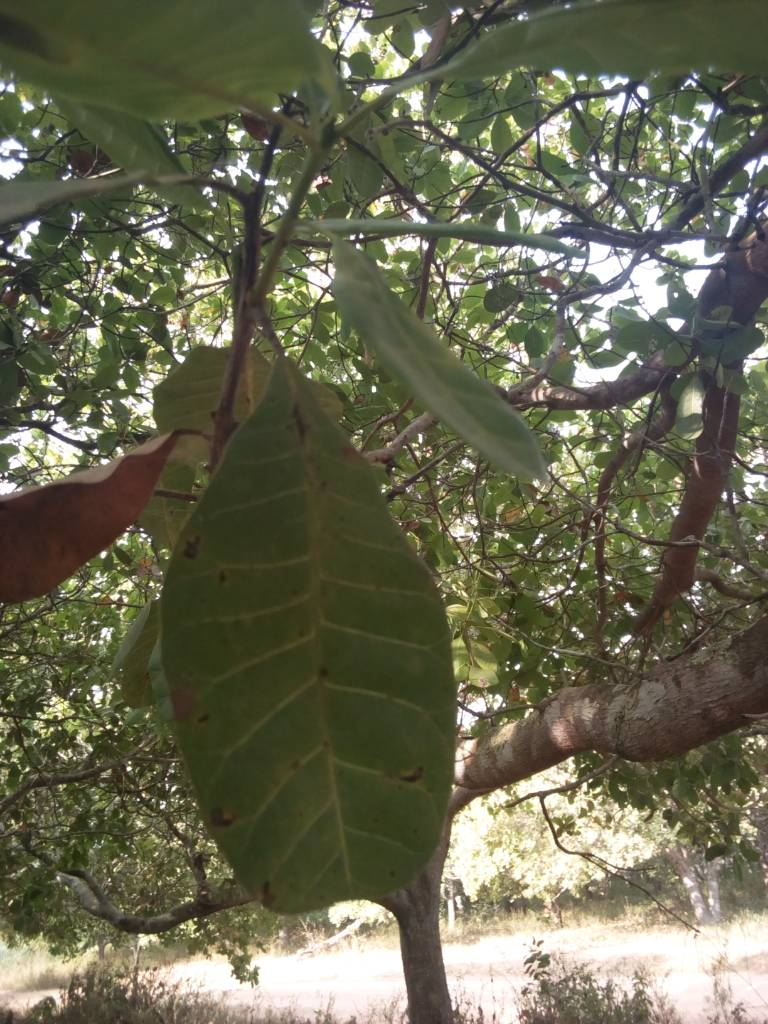Anthracnose: (158, 382, 457, 916)
